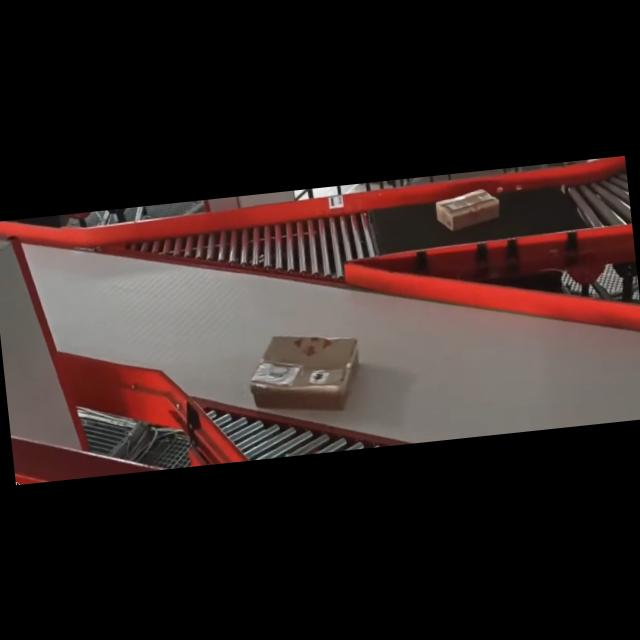box: (248, 326, 365, 421), (434, 185, 501, 232)
